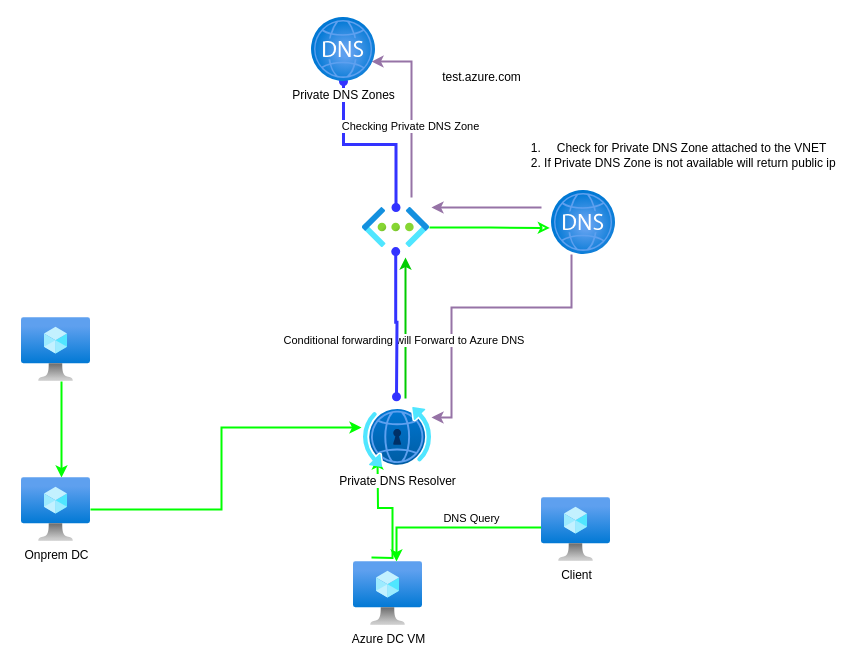
Some shapes in this 868 by 663 pixel diagram are drawn without their labels. Each missing label, with the centre of its shape:
Azure DNS (168.63.129.16): (x=583, y=222)
Onprem Client: (x=55, y=349)
